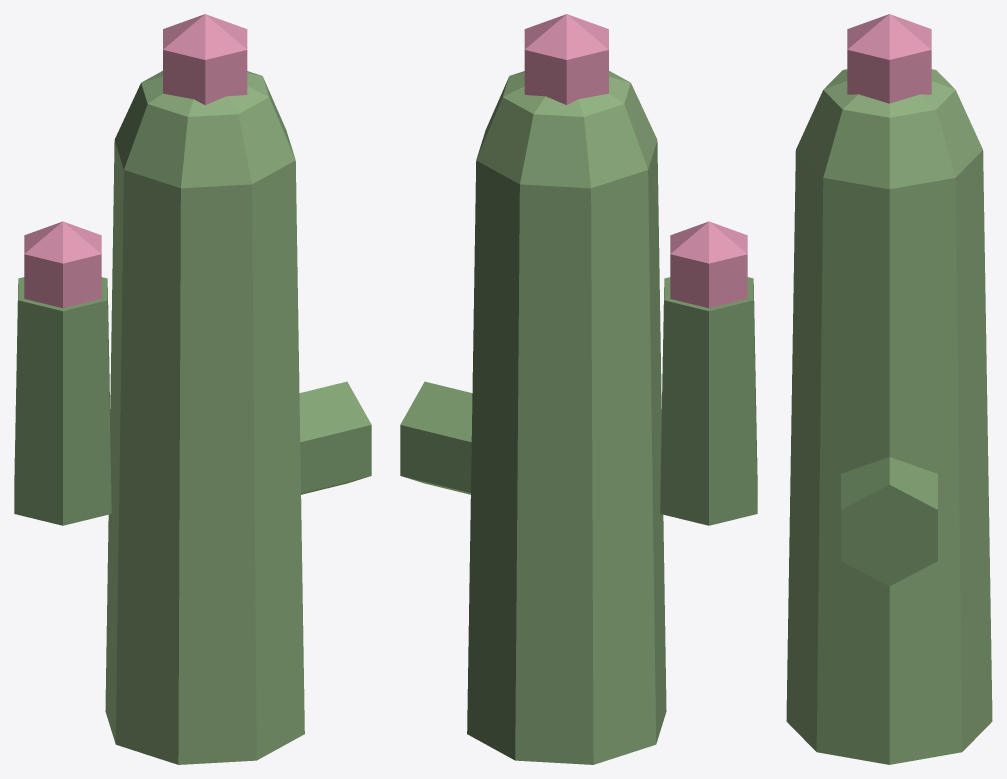
File: tarhut_cacto_0.glb
The picture shows the model from 3 angles, left to right: view 1: azimuth 30°, elevation 25°; view 2: azimuth 150°, elevation 25°; view 3: azimuth 270°, elevation 25°; orthographic projection.
Visible parts, largest first — view 1: cacto; view 2: cacto; view 3: cacto.
Boxes of the visible parts, x1,y1,x2,y2 form: cacto: [14, 14, 371, 764]; cacto: [400, 14, 757, 764]; cacto: [786, 14, 992, 764].
Bounding box in the file's own units: 0.8201 × 1.67 × 0.44.
